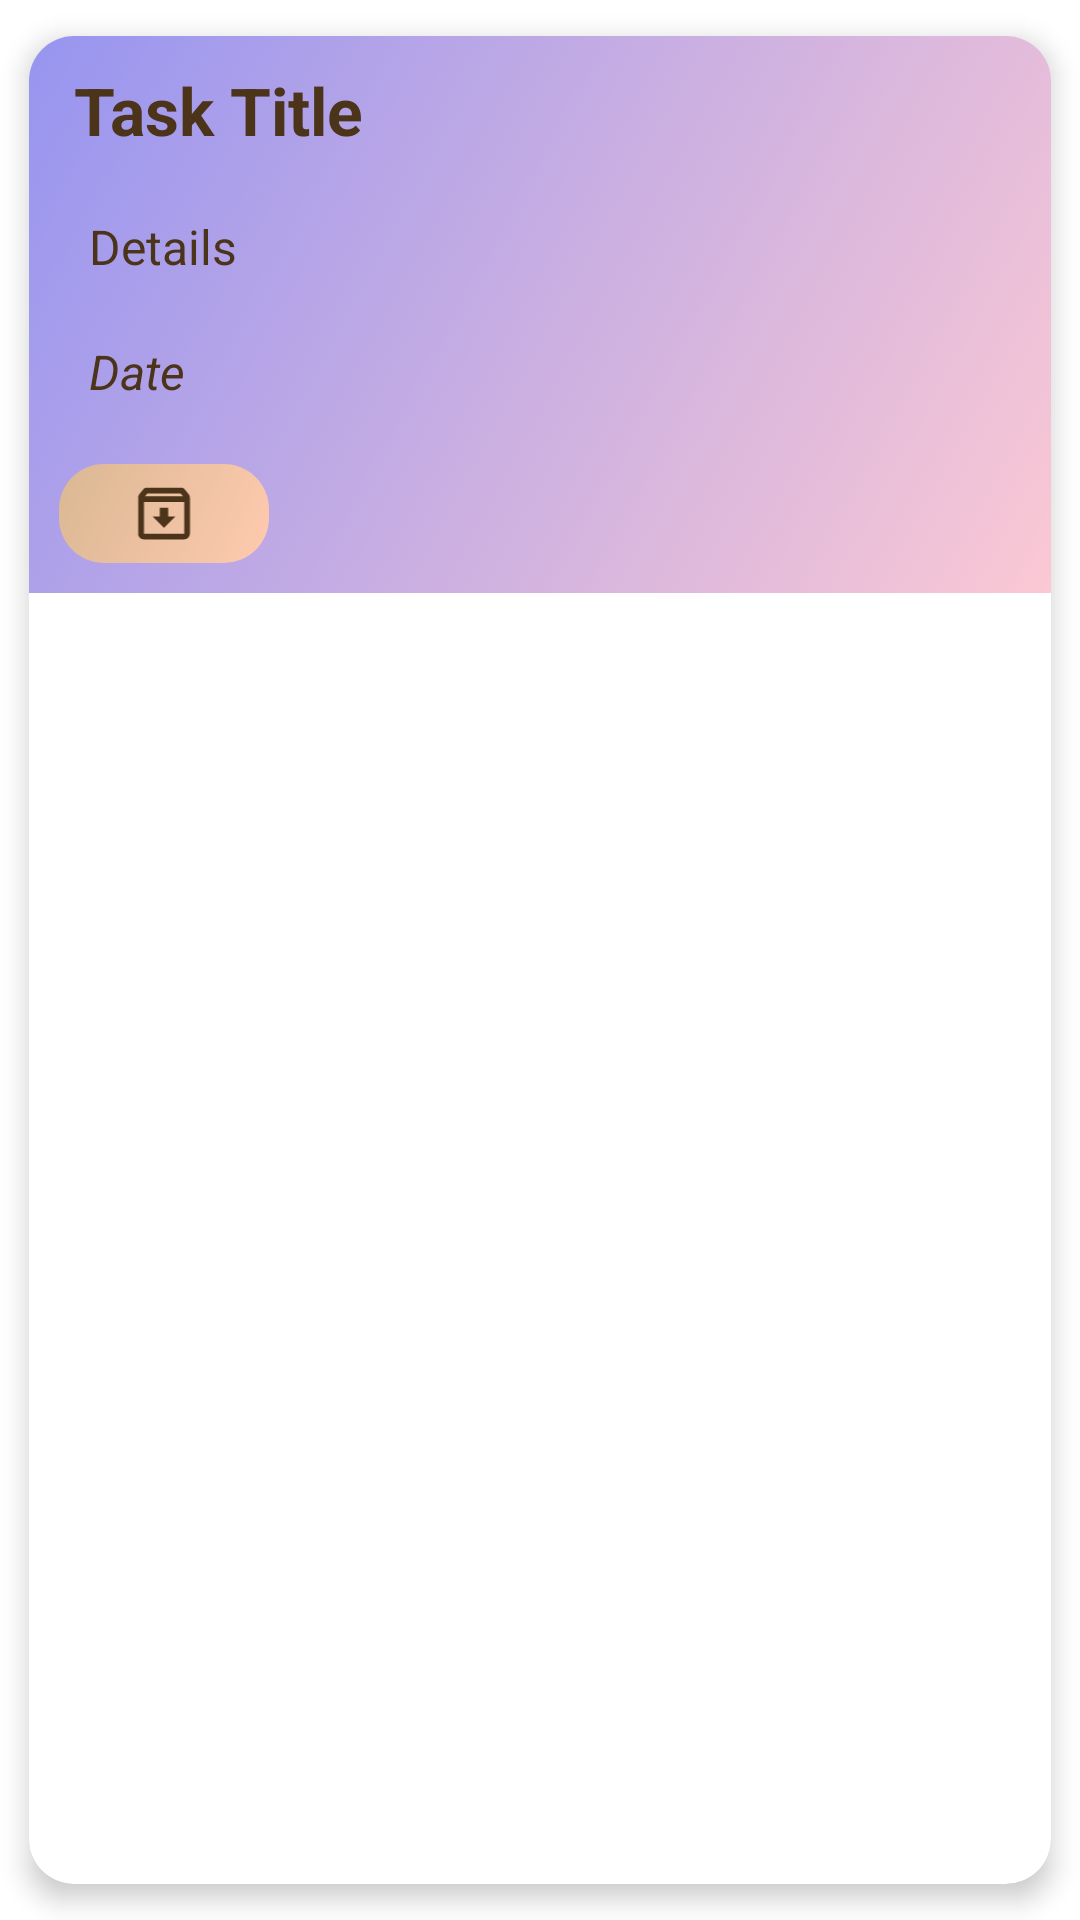

Named icons in this screenshot (1080*1920) and their centers, point (x, y):
archive: point (164, 513)
